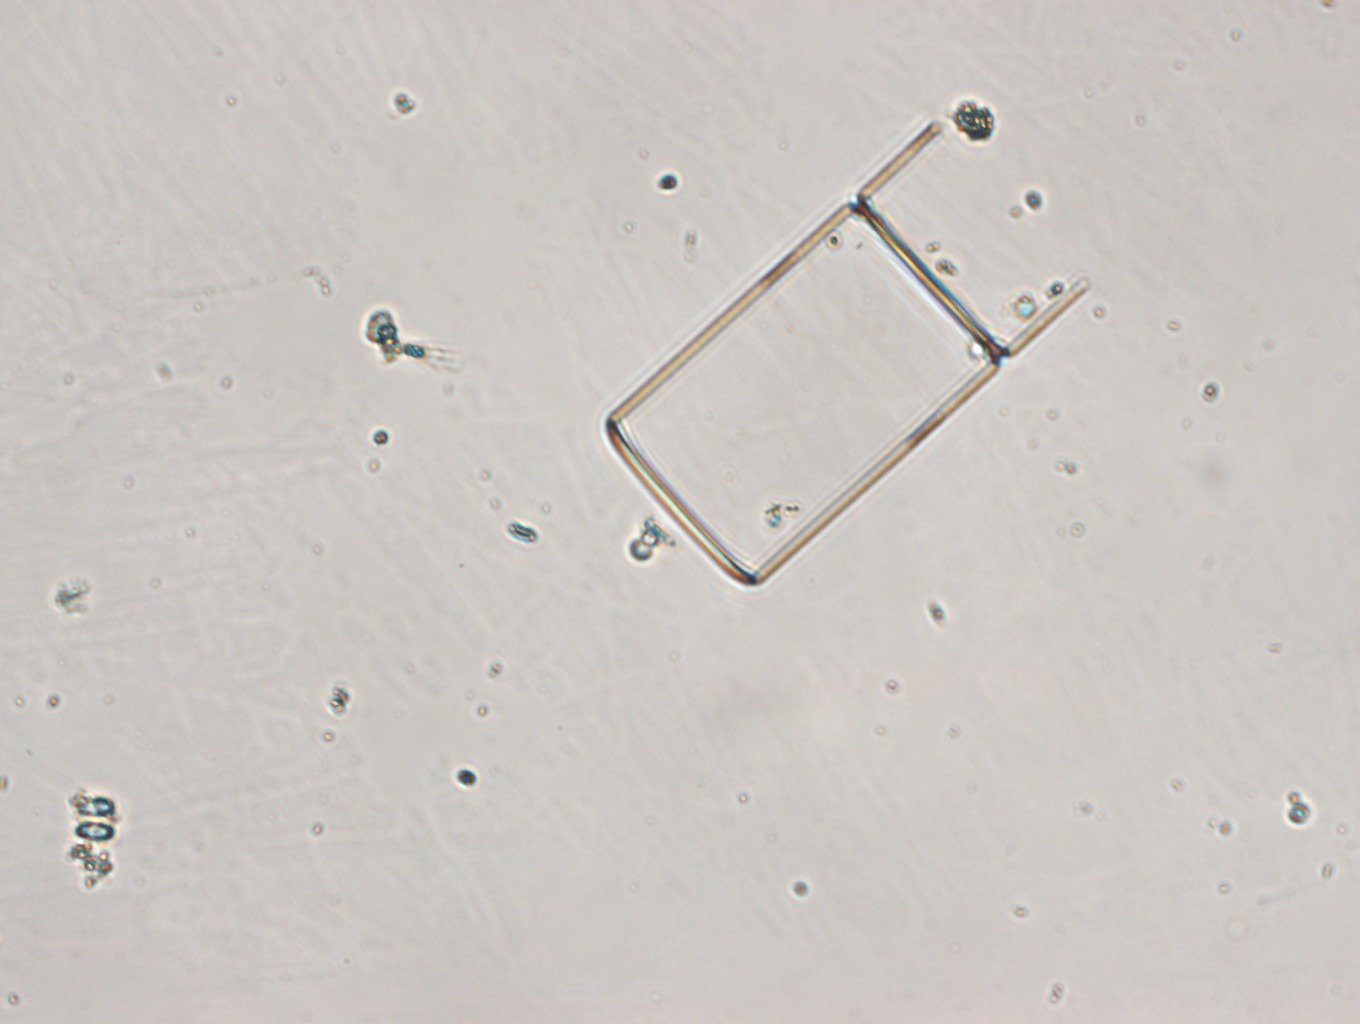guinardia flaccida: (598, 115, 1094, 589)
